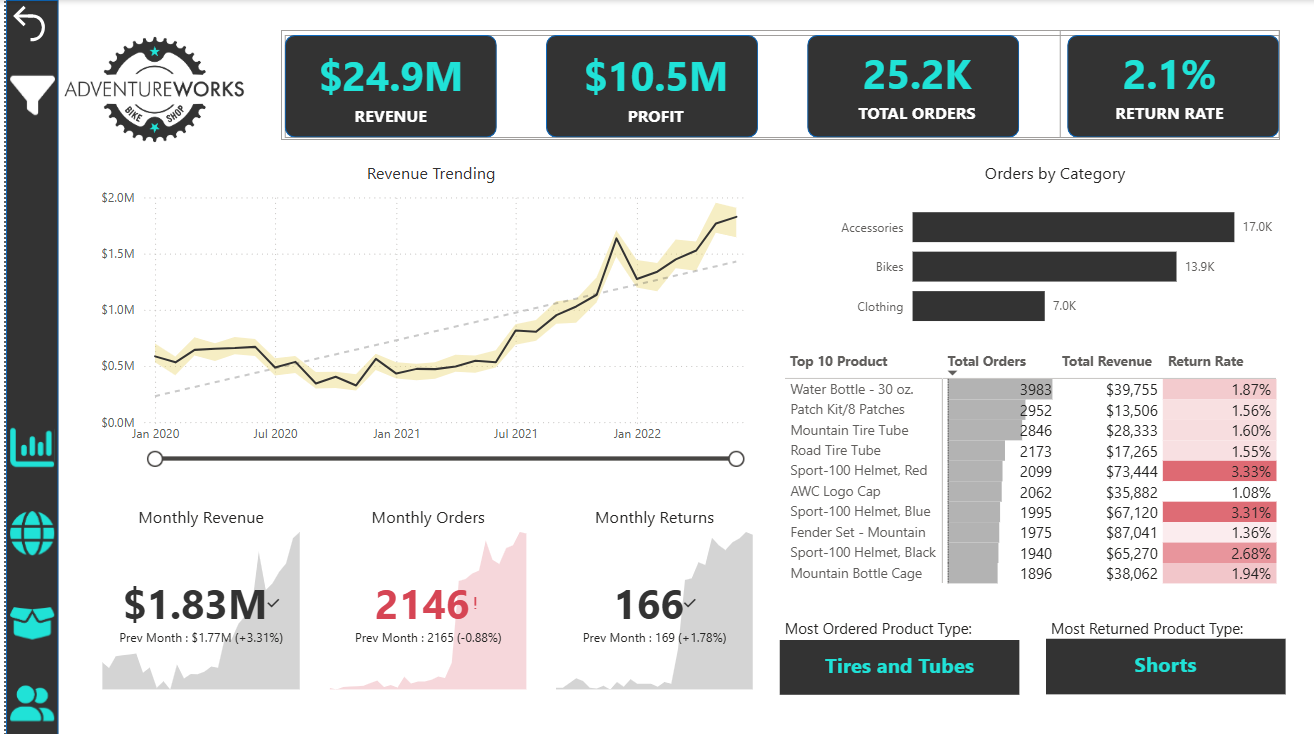

The dashboard page shown, as its layout file describes it:
{"tool":"powerbi","page":{"name":"Exec Dash","canvas":[1280,720],"ordinal":0},"visuals":[{"type":"group","id":"g1","title":"Group 3","box":[0,0,51.4,720],"z":0,"group":"g8"},{"type":"group","id":"g2","title":"Group 1","box":[0,0,51.4,720],"z":0,"group":"g1"},{"type":"shape","box":[0,0,51.4,720.2],"z":0,"group":"g2"},{"type":"image","title":"Logo","box":[37.8,0,215.2,174.9],"z":0},{"type":"card","title":"REVENUE","fields":{"Values":["Measure Table.Total Sales"]},"box":[269,31.7,215.2,105.2],"z":0,"group":"g4"},{"type":"group","id":"g3","title":"Top Box","box":[272.7,34.2,973.4,100.3],"z":0,"group":"g6"},{"type":"shape","box":[272.7,34.2,207.5,100.3],"z":0,"group":"g3"},{"type":"actionButton","box":[0,409.2,51.4,56.1],"z":0,"group":"g5"},{"type":"textbox","box":[1017.4,599.2,221.7,29.7],"z":0,"group":"g7"},{"type":"actionButton","box":[0,0,51.4,45.7],"z":1000,"group":"g8"},{"type":"group","id":"g4","title":"Group 1","box":[269,29.3,977,107.6],"z":1000,"group":"g6"},{"type":"card","fields":{"Values":["Measure Table.Total Profit"]},"box":[528.2,31.7,215.2,105.2],"z":1000,"group":"g4"},{"type":"shape","box":[528,34.2,207.5,100.3],"z":1000,"group":"g3"},{"type":"group","id":"g5","title":"Group 2","box":[0,409.2,51.4,307.1],"z":1000,"group":"g1"},{"type":"actionButton","box":[0,491.8,51.4,57.8],"z":1000,"group":"g5"},{"type":"kpi","title":"Monthly Revenue","fields":{"Indicator":["Measure Table.REVENUE"],"TrendLine":["Calendar Lookup.Date Hierarchy.Start of Month"],"Goal":["Measure Table.Previous Month Revenue"]},"box":[89.2,493.9,203.3,185.7],"z":1000},{"type":"card","fields":{"Values":["Min(Product Subcategories Lookup.SubcategoryName)"]},"box":[1017.4,625.1,234.1,54.3],"z":1000,"group":"g7"},{"type":"card","fields":{"Values":["Measure Table.Total Orders"]},"box":[783.8,29.3,215.2,105.2],"z":2000,"group":"g4"},{"type":"shape","box":[783.3,34.2,207.5,100.3],"z":2000,"group":"g3"},{"type":"kpi","title":"Monthly Orders","fields":{"Goal":["Measure Table.Previous Month Orders"],"Indicator":["Measure Table.Total Orders"],"TrendLine":["Calendar Lookup.Start of Month"]},"box":[311.8,493.9,202.6,185.7],"z":2000},{"type":"actionButton","box":[0,580.9,51.4,57.8],"z":2000,"group":"g5"},{"type":"card","fields":{"Values":["Measure Table.Return Rate"]},"box":[1030.8,29.3,215.2,105.2],"z":3000,"group":"g4"},{"type":"shape","box":[1038.5,34.2,207.5,100.3],"z":3000,"group":"g3"},{"type":"card","fields":{"Values":["Min(Product Subcategories Lookup.SubcategoryName)"]},"box":[756.9,626.1,234.8,53.8],"z":3000},{"type":"actionButton","box":[0,658.5,51.4,57.8],"z":3000,"group":"g5"},{"type":"kpi","title":"Monthly Returns","fields":{"TrendLine":["Calendar Lookup.Date Hierarchy.Start of Month"],"Indicator":["Measure Table.Total Returns"],"Goal":["Measure Table.Previous Month Returns"]},"box":[533.7,493.9,202.6,185.7],"z":4000},{"type":"textbox","box":[756.9,599.2,221.3,30.6],"z":5000},{"type":"lineChart","title":"Revenue Trending ","fields":{"Y":["Measure Table.REVENUE"],"Category":["Calendar Lookup.Date.Variation.Date Hierarchy.Year","Calendar Lookup.Date.Variation.Date Hierarchy.Quarter","Calendar Lookup.Date.Variation.Date Hierarchy.Month","Calendar Lookup.Date.Variation.Date Hierarchy.Day"]},"box":[88.6,157.1,655.7,301.4],"z":6000},{"type":"group","id":"g6","title":"KPI","box":[269,29.3,977,107.6],"z":7000},{"type":"barChart","title":"Orders by Category","fields":{"Category":["Product Categories Lookup.CategoryName"],"Y":["Measure Table.Total Orders"]},"box":[807.1,157.1,438.6,178.6],"z":8000},{"type":"pivotTable","fields":{"Values":["Measure Table.Total Orders","Measure Table.REVENUE","Measure Table.Return Rate"],"Rows":["Product Lookup.ProductName"]},"box":[757.1,338.6,522.9,240],"z":9000},{"type":"group","id":"g7","title":"Group 4","box":[1017.4,599.2,234.8,80.7],"z":10000},{"type":"group","id":"g8","title":"Group 5","box":[0,0,51.4,720],"z":11000},{"type":"actionButton","box":[0,67.3,100.3,40.4],"z":12000},{"type":"actionButton","box":[0,67.8,51.9,51.9],"z":14000}]}

Visuals, with their boxes on the page's 1280x720 design canvas (x1, y1, x2, y2). These are canvas units, not pixel positions in the 1314x734 screenshot, which may show the page scaled, cropped or inside an application window:
"Group 3" group: region(0, 0, 51, 720)
"Group 1" group: region(0, 0, 51, 720)
shape: region(0, 0, 51, 720)
"Logo" image: region(38, 0, 253, 175)
"REVENUE" card: region(269, 32, 484, 137)
"Top Box" group: region(273, 34, 1246, 134)
shape: region(273, 34, 480, 134)
actionButton: region(0, 409, 51, 465)
textbox: region(1017, 599, 1239, 629)
actionButton: region(0, 0, 51, 46)
"Group 1" group: region(269, 29, 1246, 137)
card - Measure Table.Total Profit: region(528, 32, 743, 137)
shape: region(528, 34, 736, 134)
"Group 2" group: region(0, 409, 51, 716)
actionButton: region(0, 492, 51, 550)
"Monthly Revenue" kpi: region(89, 494, 292, 680)
card - Min(Product Subcategories Lookup.SubcategoryName): region(1017, 625, 1252, 679)
card - Measure Table.Total Orders: region(784, 29, 999, 134)
shape: region(783, 34, 991, 134)
"Monthly Orders" kpi: region(312, 494, 514, 680)
actionButton: region(0, 581, 51, 639)
card - Measure Table.Return Rate: region(1031, 29, 1246, 134)
shape: region(1038, 34, 1246, 134)
card - Min(Product Subcategories Lookup.SubcategoryName): region(757, 626, 992, 680)
actionButton: region(0, 658, 51, 716)
"Monthly Returns" kpi: region(534, 494, 736, 680)
textbox: region(757, 599, 978, 630)
"Revenue Trending " lineChart: region(89, 157, 744, 458)
"KPI" group: region(269, 29, 1246, 137)
"Orders by Category" barChart: region(807, 157, 1246, 336)
pivotTable - Measure Table.Total Orders x Measure Table.REVENUE: region(757, 339, 1280, 579)
"Group 4" group: region(1017, 599, 1252, 680)
"Group 5" group: region(0, 0, 51, 720)
actionButton: region(0, 67, 100, 108)
actionButton: region(0, 68, 52, 120)
